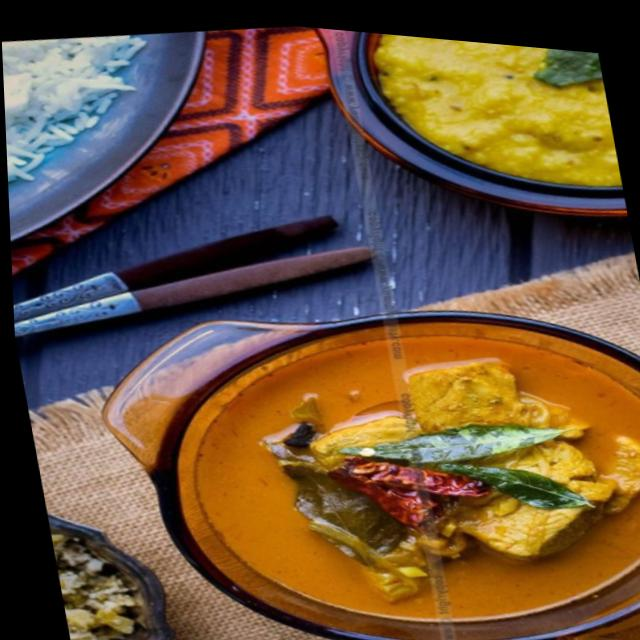FISH CURRY: (410, 337, 640, 616), (200, 344, 430, 619)
